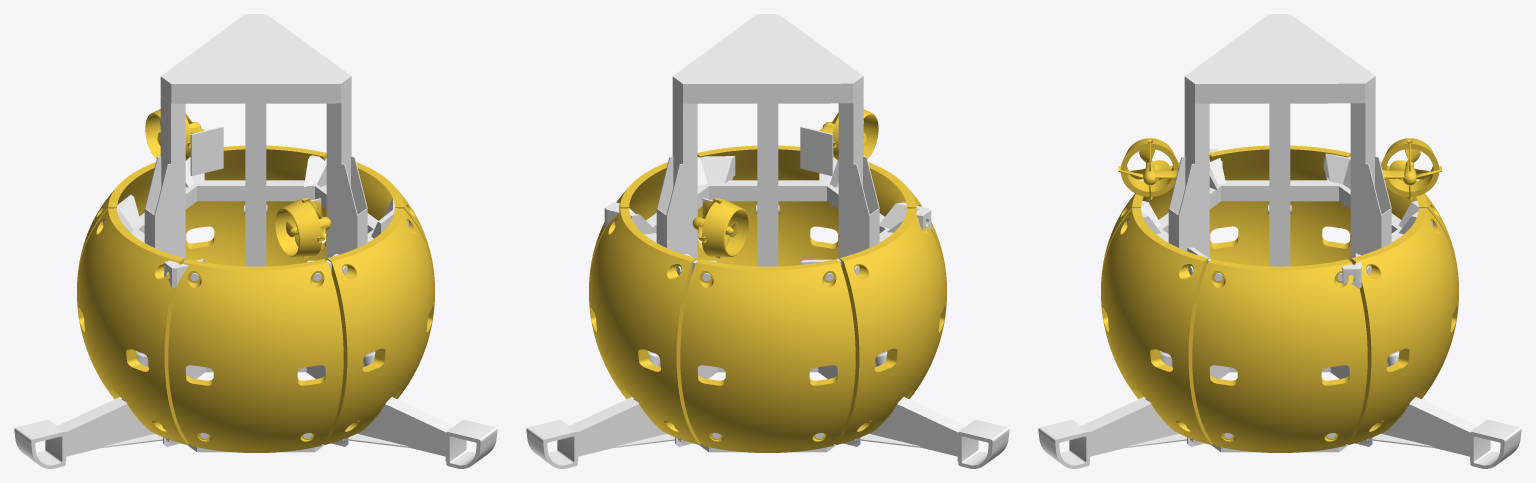
The model's file is Apex_Entwurf_Stand_Juli_23.glb.
3 views of the same model, side by side, from view 1: azimuth 30°, elevation 25°; view 2: azimuth 150°, elevation 25°; view 3: azimuth 270°, elevation 25° (orthographic).
Parts seen in each view (by area): view 1: Schutzschale, Deckel, Fuß_Clone, Stütze.004, Fuß_Clone.001, Stütze.002, Stütze.003, oberer Sechseckring, Cylinder.025, Platte, unterer Sechseckring, Halterung.003 (+1 smaller); view 2: Schutzschale, Deckel, Fuß_Clone.002, Stütze.004, Fuß_Clone, Stütze.003, Stütze.002, oberer Sechseckring, Cylinder.025, Platte, Halterung.002, Halterung.001 (+2 smaller); view 3: Schutzschale, Deckel, Fuß_Clone.001, Fuß_Clone.002, Stütze.003, Stütze.002, Stütze.004, oberer Sechseckring, Cylinder.025, Propeller, unterer Sechseckring, Halterung.010.
Part boxes in pixels (bbox=[...]): Schutzschale: bbox=[77, 145, 434, 452]; Deckel: bbox=[160, 14, 351, 103]; Fuß_Clone: bbox=[14, 397, 162, 468]; Stütze.004: bbox=[144, 96, 185, 446]; Fuß_Clone.001: bbox=[349, 397, 497, 468]; Stütze.002: bbox=[326, 96, 367, 446]; Stütze.003: bbox=[245, 103, 266, 266]; oberer Sechseckring: bbox=[132, 180, 377, 242]; Cylinder.025: bbox=[145, 109, 322, 256]; Platte: bbox=[190, 126, 321, 215]; unterer Sechseckring: bbox=[186, 365, 325, 452]; Halterung.003: bbox=[304, 152, 326, 186]; Schutzschale: bbox=[589, 145, 946, 452]; Deckel: bbox=[672, 14, 863, 103]; Fuß_Clone.002: bbox=[526, 397, 674, 468]; Stütze.004: bbox=[838, 96, 879, 446]; Fuß_Clone: bbox=[861, 397, 1009, 468]; Stütze.003: bbox=[656, 96, 697, 446]; Stütze.002: bbox=[757, 103, 778, 266]; oberer Sechseckring: bbox=[644, 180, 893, 242]; Cylinder.025: bbox=[701, 109, 878, 256]; Platte: bbox=[702, 126, 833, 215]; Halterung.002: bbox=[697, 156, 735, 185]; Halterung.001: bbox=[879, 202, 931, 232]; Schutzschale: bbox=[1101, 145, 1458, 452]; Deckel: bbox=[1184, 14, 1375, 103]; Fuß_Clone.001: bbox=[1038, 397, 1186, 468]; Fuß_Clone.002: bbox=[1373, 397, 1521, 468]; Stütze.003: bbox=[1350, 96, 1391, 446]; Stütze.002: bbox=[1168, 96, 1209, 446]; Stütze.004: bbox=[1269, 103, 1290, 266]; oberer Sechseckring: bbox=[1156, 180, 1403, 242]; Cylinder.025: bbox=[1120, 138, 1439, 196]; Propeller: bbox=[1130, 149, 1429, 179]; unterer Sechseckring: bbox=[1210, 365, 1349, 452]; Halterung.010: bbox=[1323, 153, 1350, 189].
Bounding box in the file's own units: 3.21 × 2.78 × 3.45.
